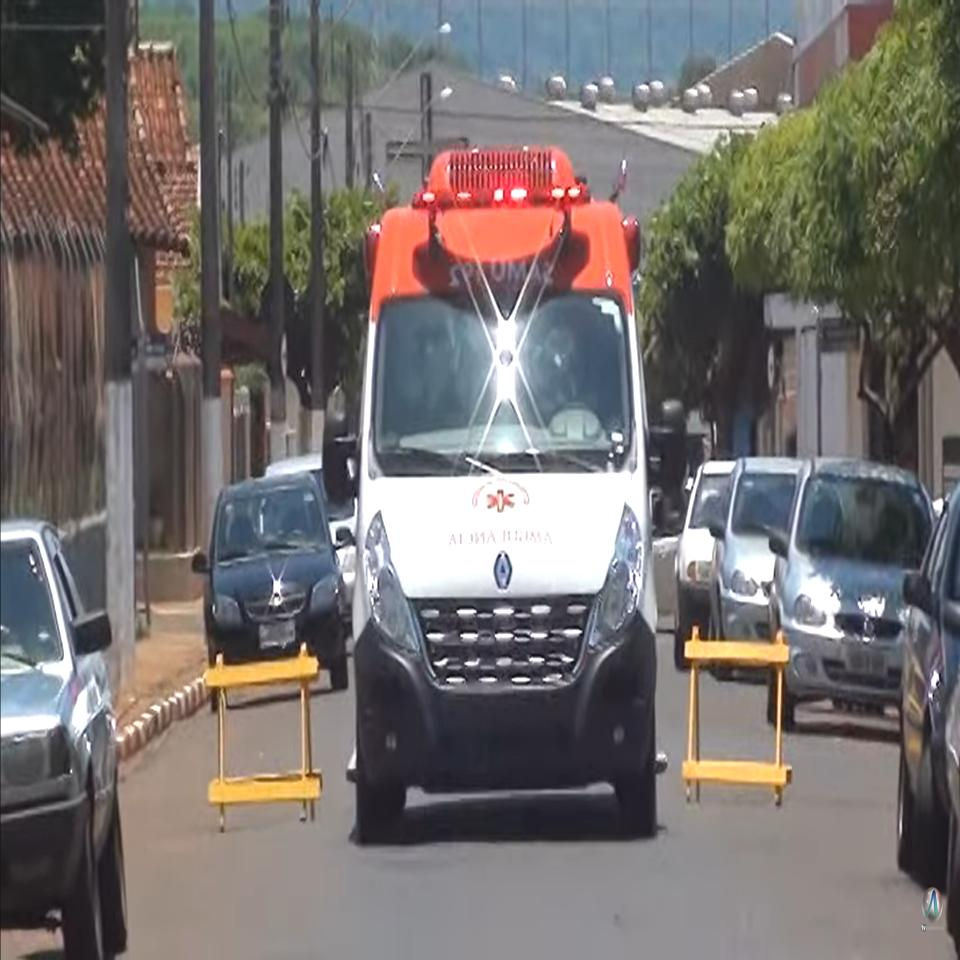ambulancia: (321, 140, 691, 842)
